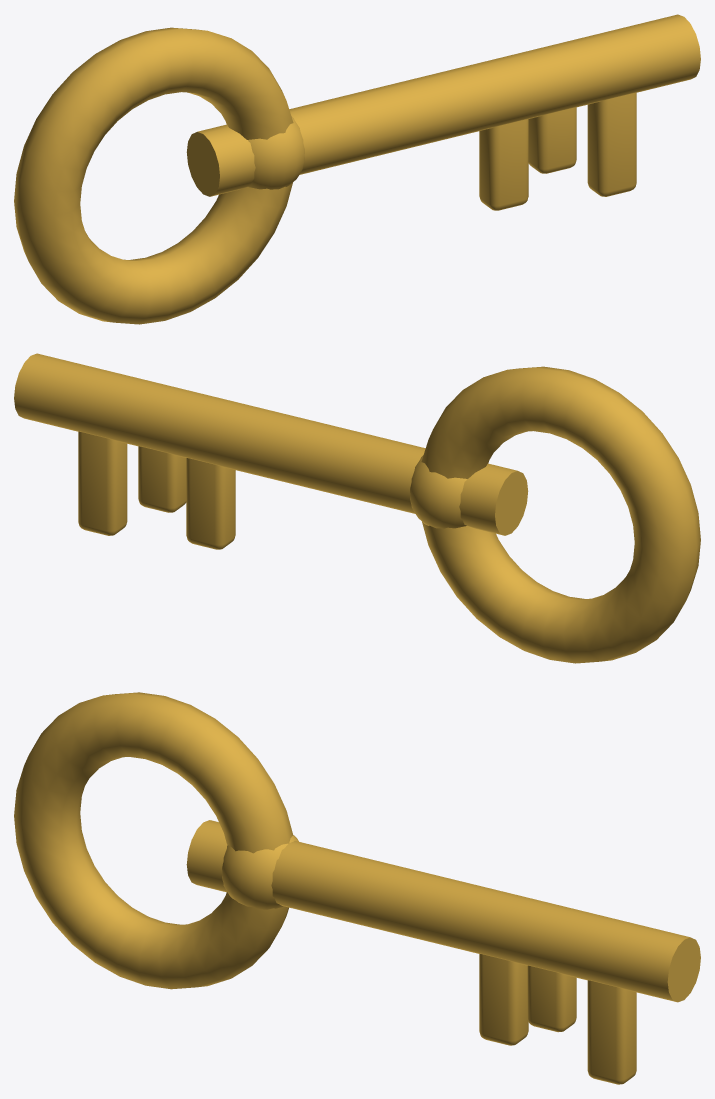
The model's file is chave.glb.
The picture shows the model from 3 angles, top to bottom: view 1: azimuth 30°, elevation 25°; view 2: azimuth 150°, elevation 25°; view 3: azimuth 330°, elevation 25°; orthographic projection.
Parts seen in each view (by area): view 1: p; view 2: p; view 3: p.
Part boxes in pixels (x1=…): p: x1=14, y1=14, x2=700, y2=324; p: x1=14, y1=353, x2=700, y2=663; p: x1=14, y1=692, x2=700, y2=1084.
Bounding box in the file's own units: 0.277 × 0.114 × 0.0318.
